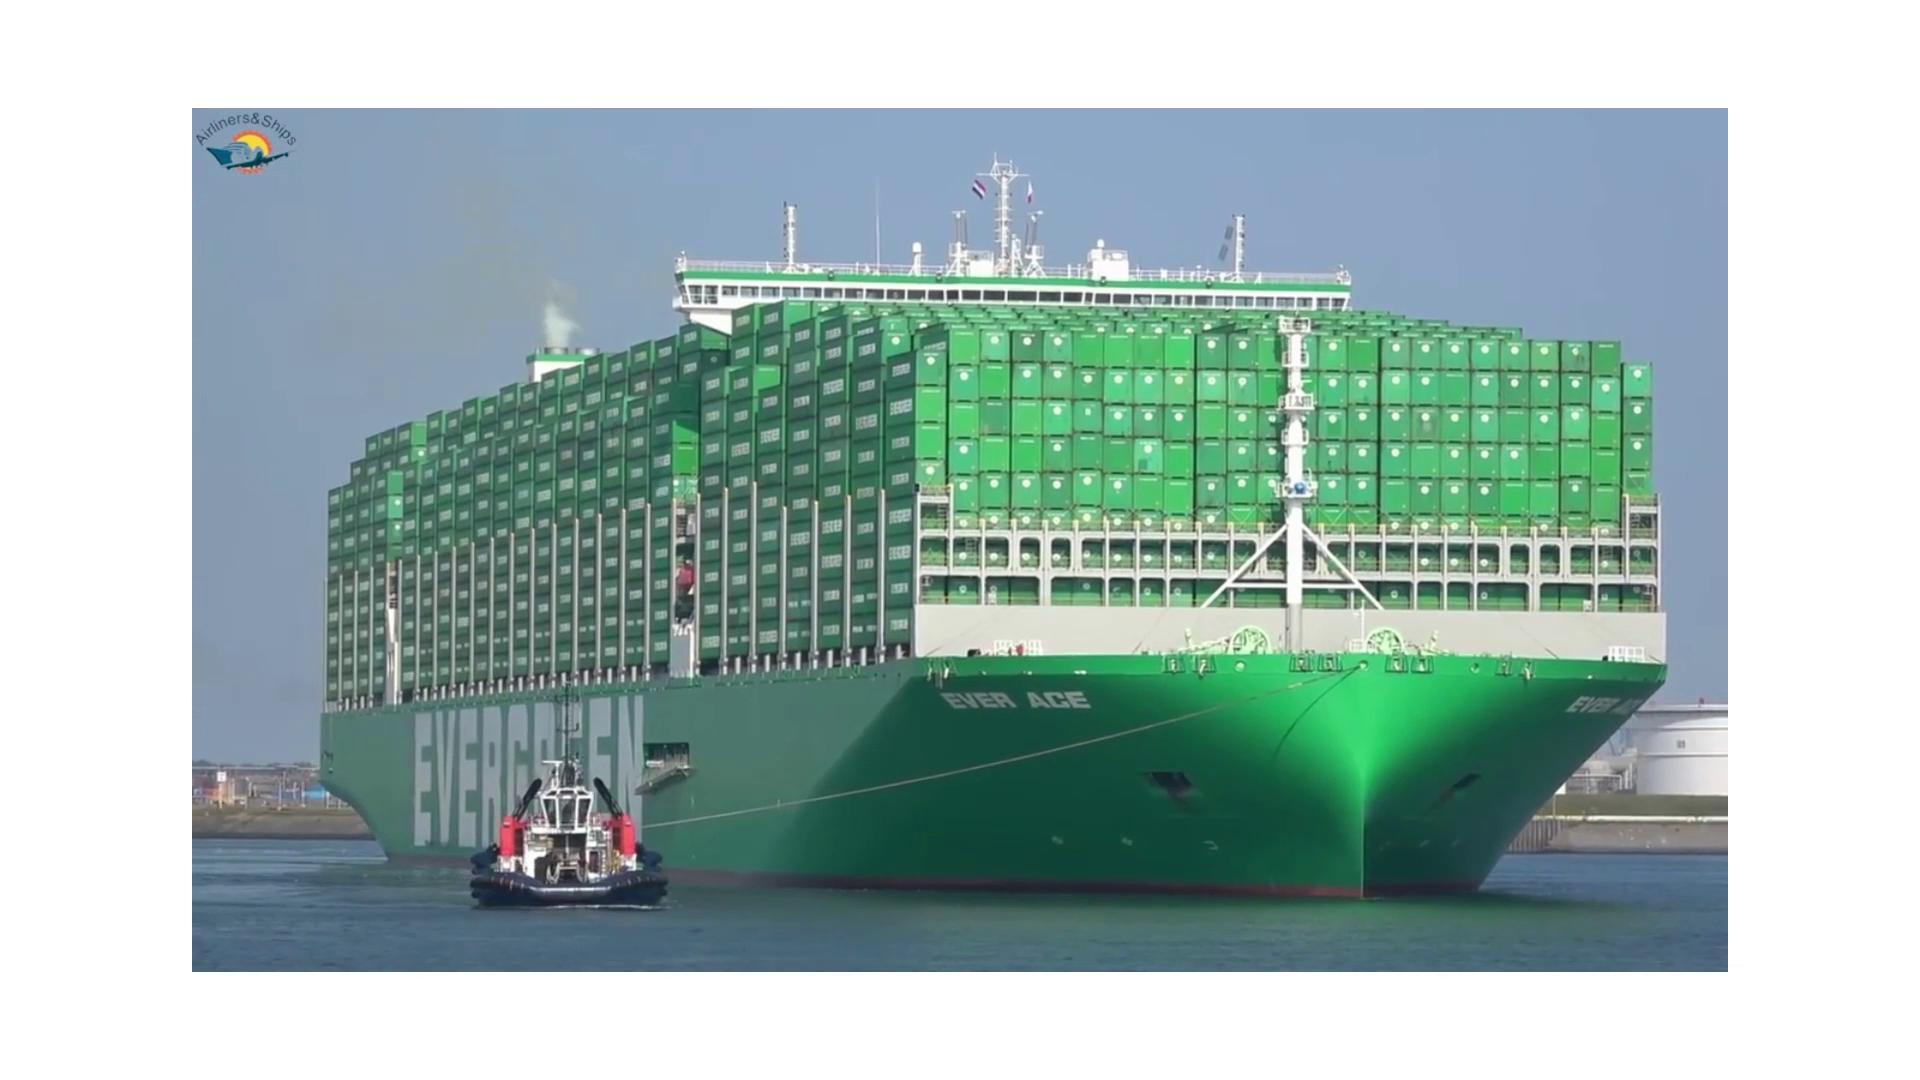OCR: (384, 690, 673, 882), (935, 674, 1109, 748), (1564, 667, 1658, 735)
